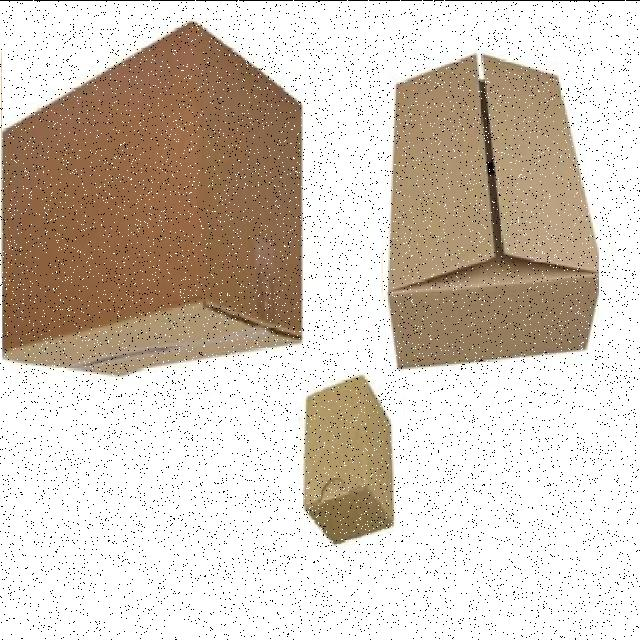defect: (383, 43, 599, 371)
normal: (2, 17, 310, 391), (303, 372, 400, 548)
